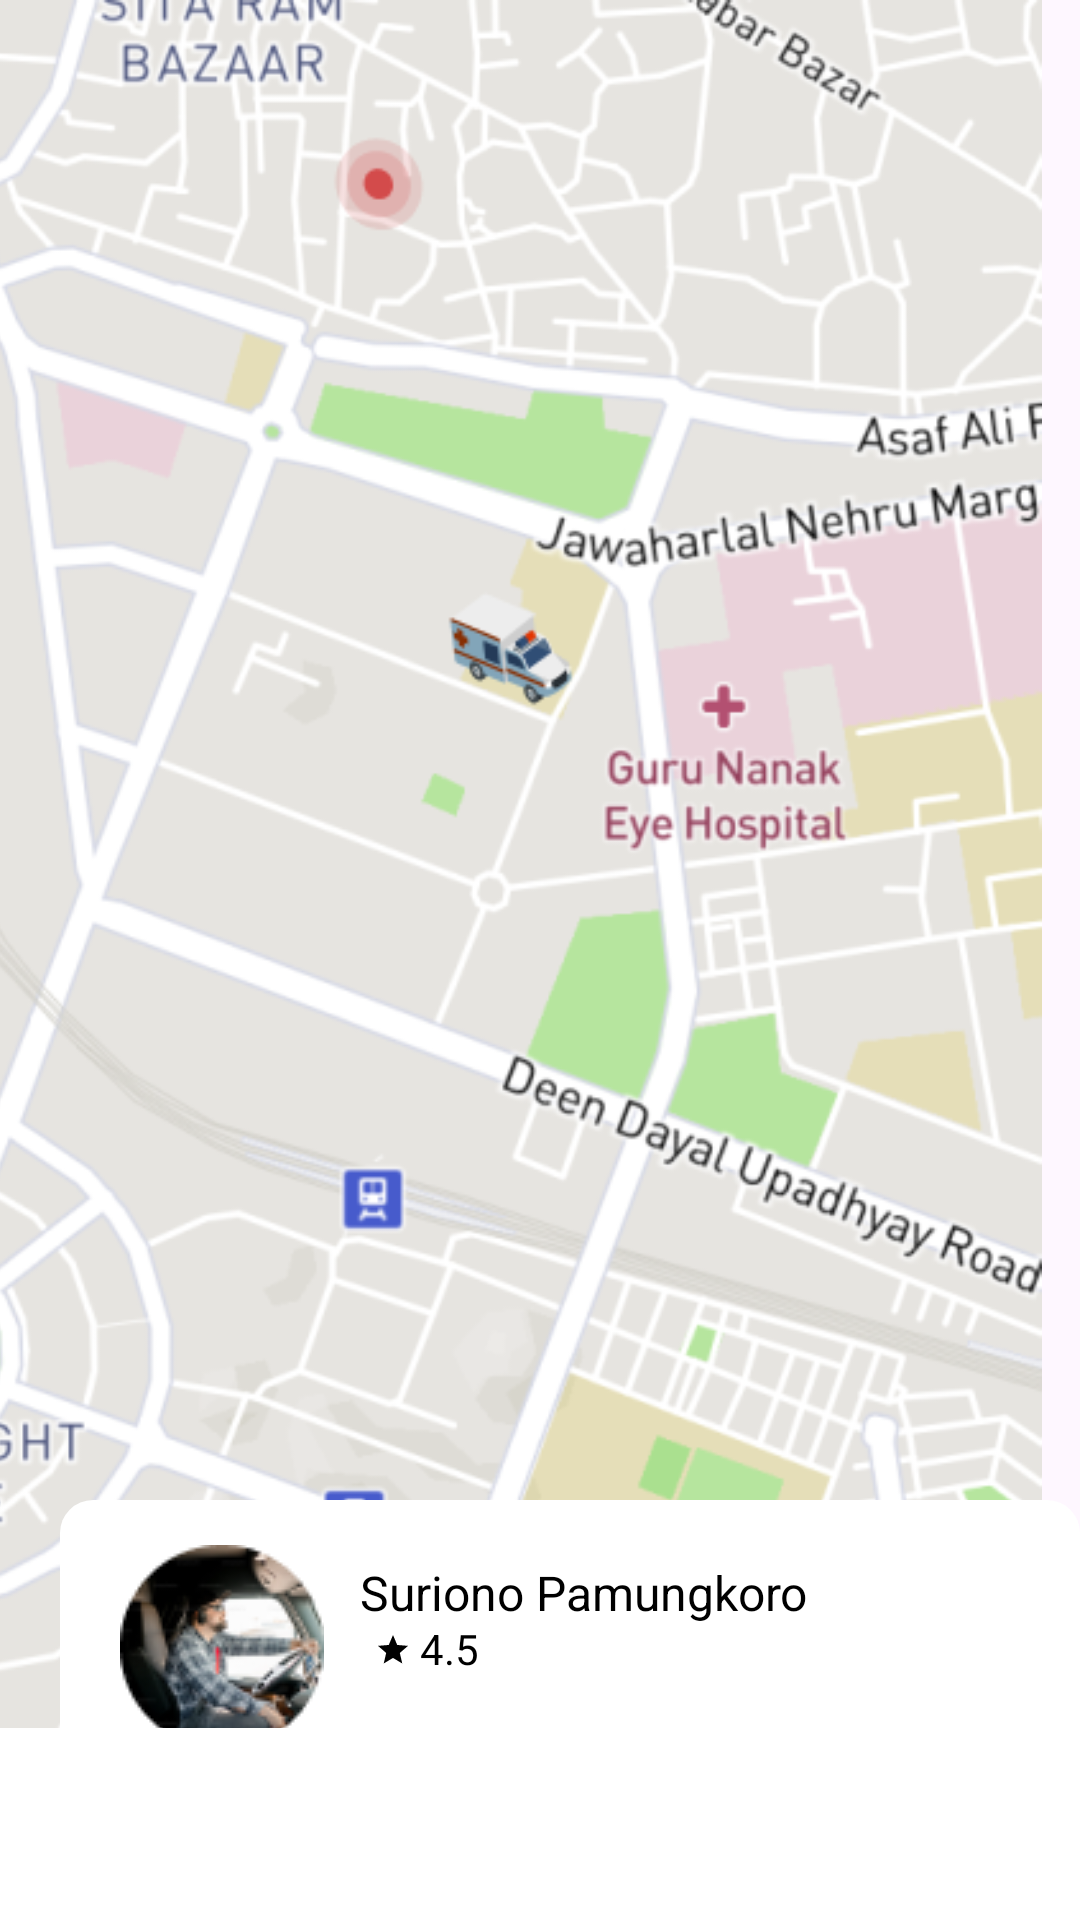

Named icons in this screenshot (1080px×1920px) and their centers, point (x, y):
star hitam: point (393, 1649)
supir: point (222, 1636)
